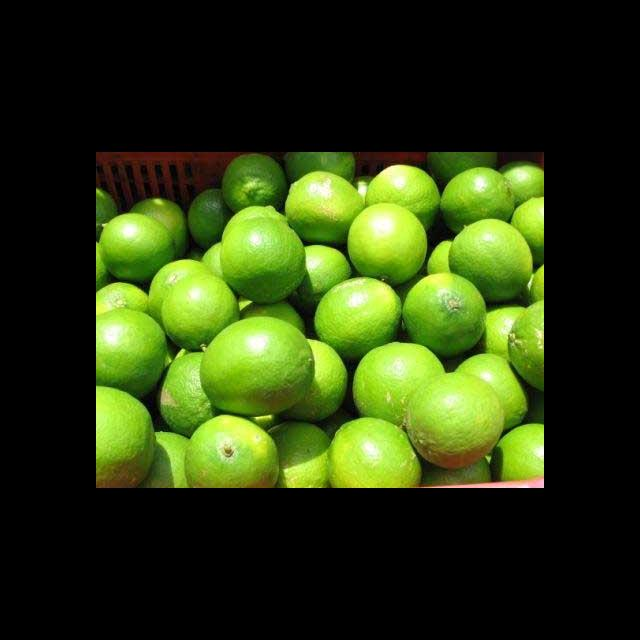lime: (201, 317, 314, 416), (407, 372, 503, 469), (354, 343, 446, 429), (222, 216, 307, 304), (451, 219, 535, 303), (346, 203, 429, 287), (185, 416, 281, 488), (402, 275, 486, 357), (314, 278, 401, 355), (330, 418, 423, 487), (455, 354, 529, 439), (96, 387, 157, 488), (96, 309, 165, 398), (276, 340, 348, 421), (285, 173, 365, 242), (165, 278, 237, 353), (440, 167, 517, 235), (160, 351, 218, 439), (99, 213, 174, 281), (365, 165, 440, 233), (267, 422, 330, 488), (221, 154, 289, 214), (478, 424, 544, 483), (508, 301, 544, 393), (304, 245, 355, 298)
